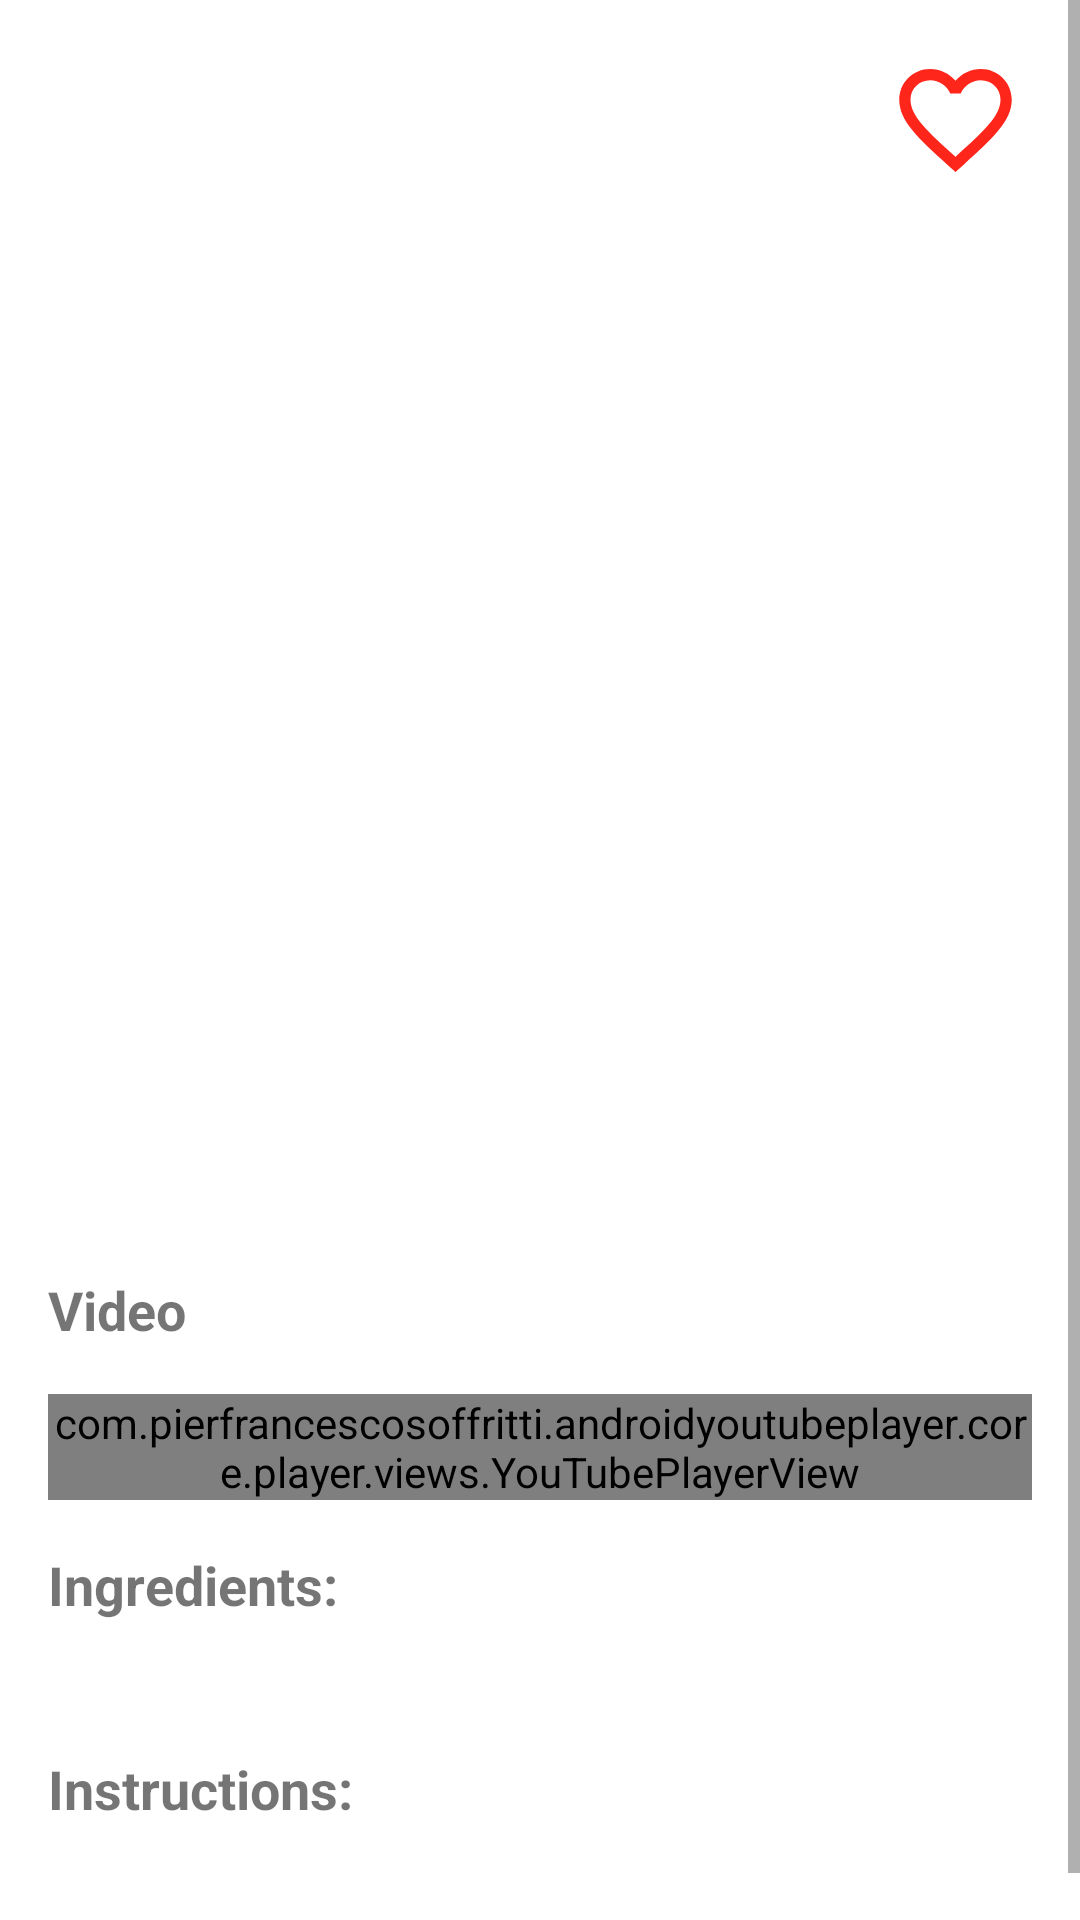

Point at icon controls on the screen. Image size 1080x1920, points as (x,y).
favorite: (955,120)
